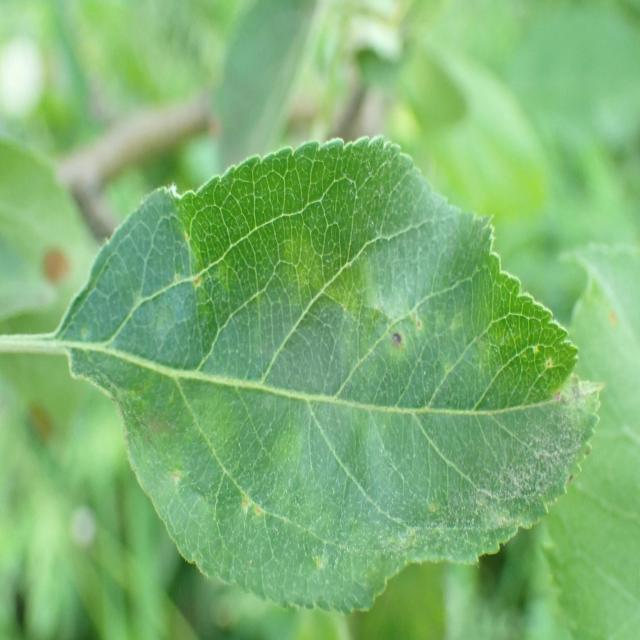frog-eye-leaf-spot: (56, 134, 606, 616)
